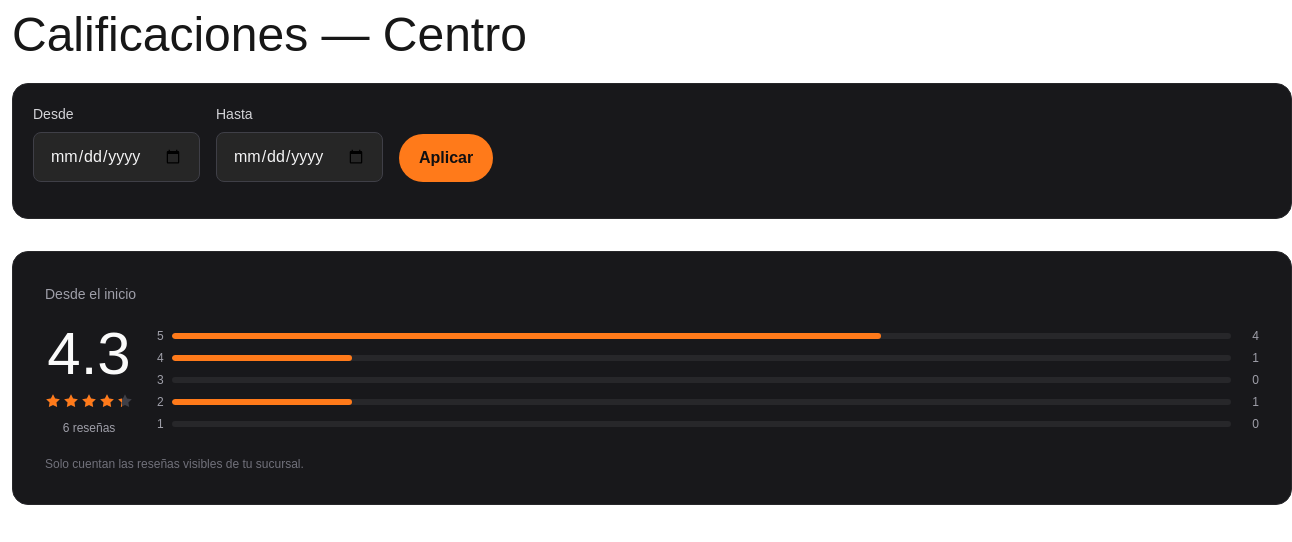
Test: reporte de calificaciones (LB-97) › con la fecha final anterior no genera el reporte y avisa
This screenshot has width=1292, height=542.
Check: the text "4.3" is shown, box x1=45 y1=324 x2=133 y2=384
Type "2026-11-15" into the date field labelled "Desde" at (116, 157), box x1=33 y1=132 x2=200 y2=182
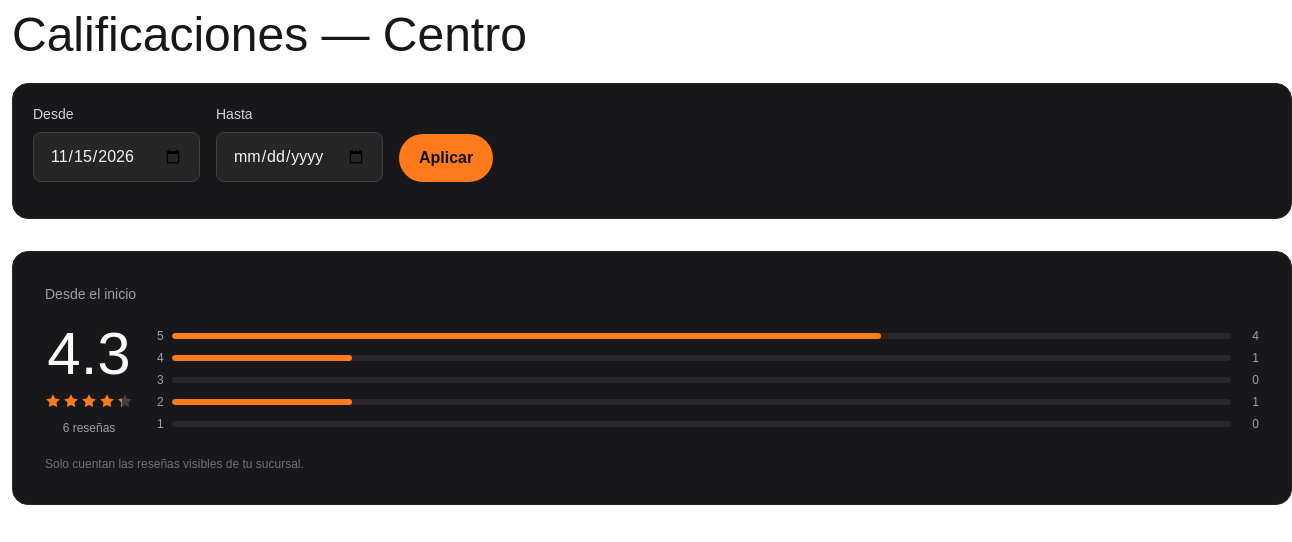
Type "2026-11-01" into the date field labelled "Hasta" at (300, 157), box x1=216 y1=132 x2=383 y2=182
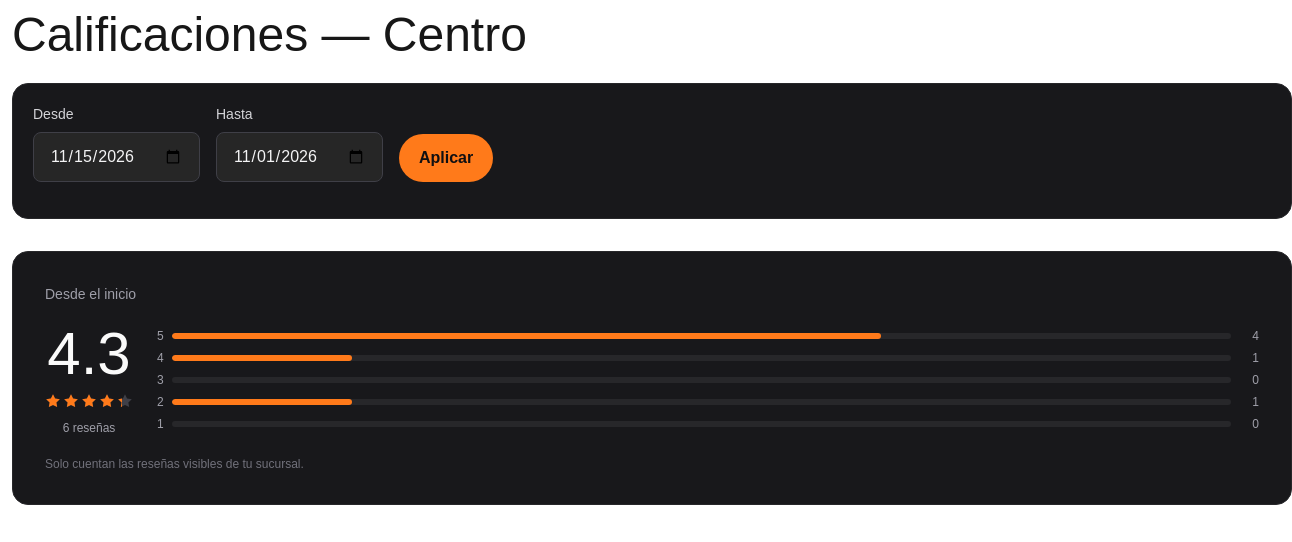
Click the button "Aplicar" at (446, 158), box x1=399 y1=134 x2=493 y2=182
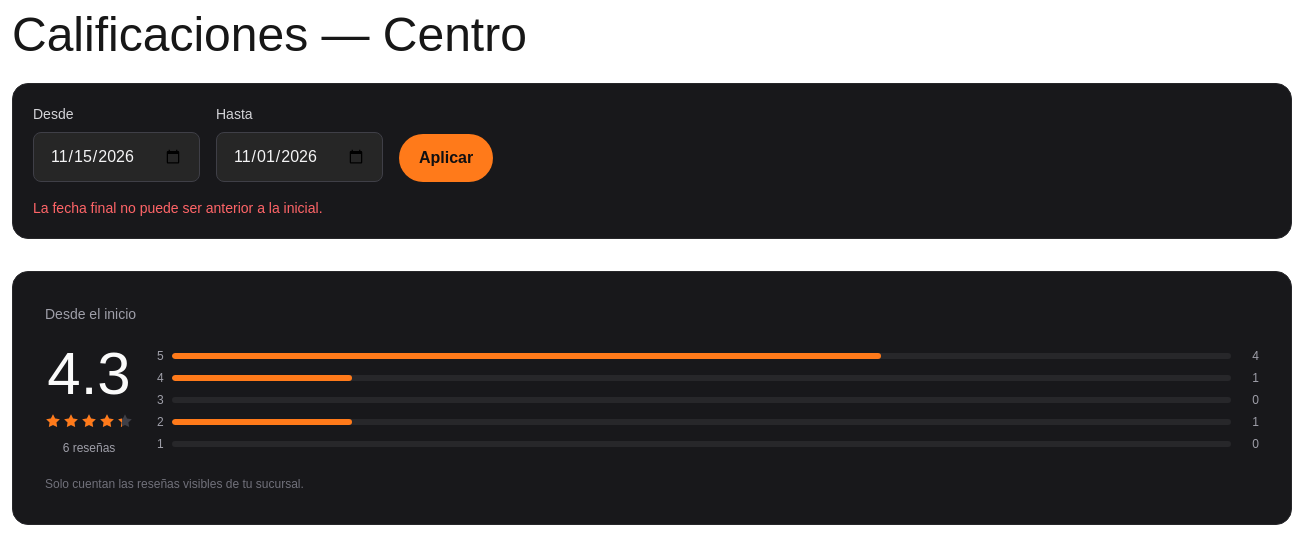
Check: the text "La fecha final no puede ser anterior a la inicial." is shown, box x1=33 y1=200 x2=322 y2=216
